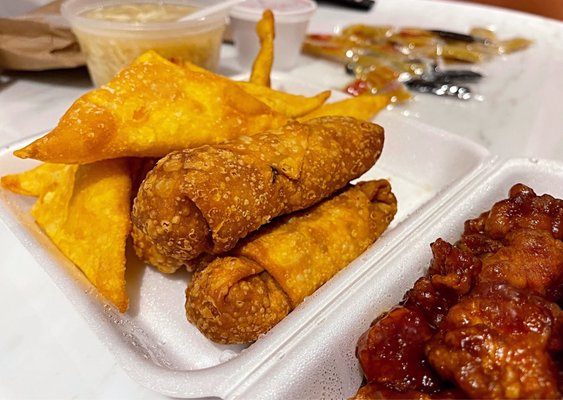pizza: (61, 0, 232, 89), (226, 0, 318, 73)
